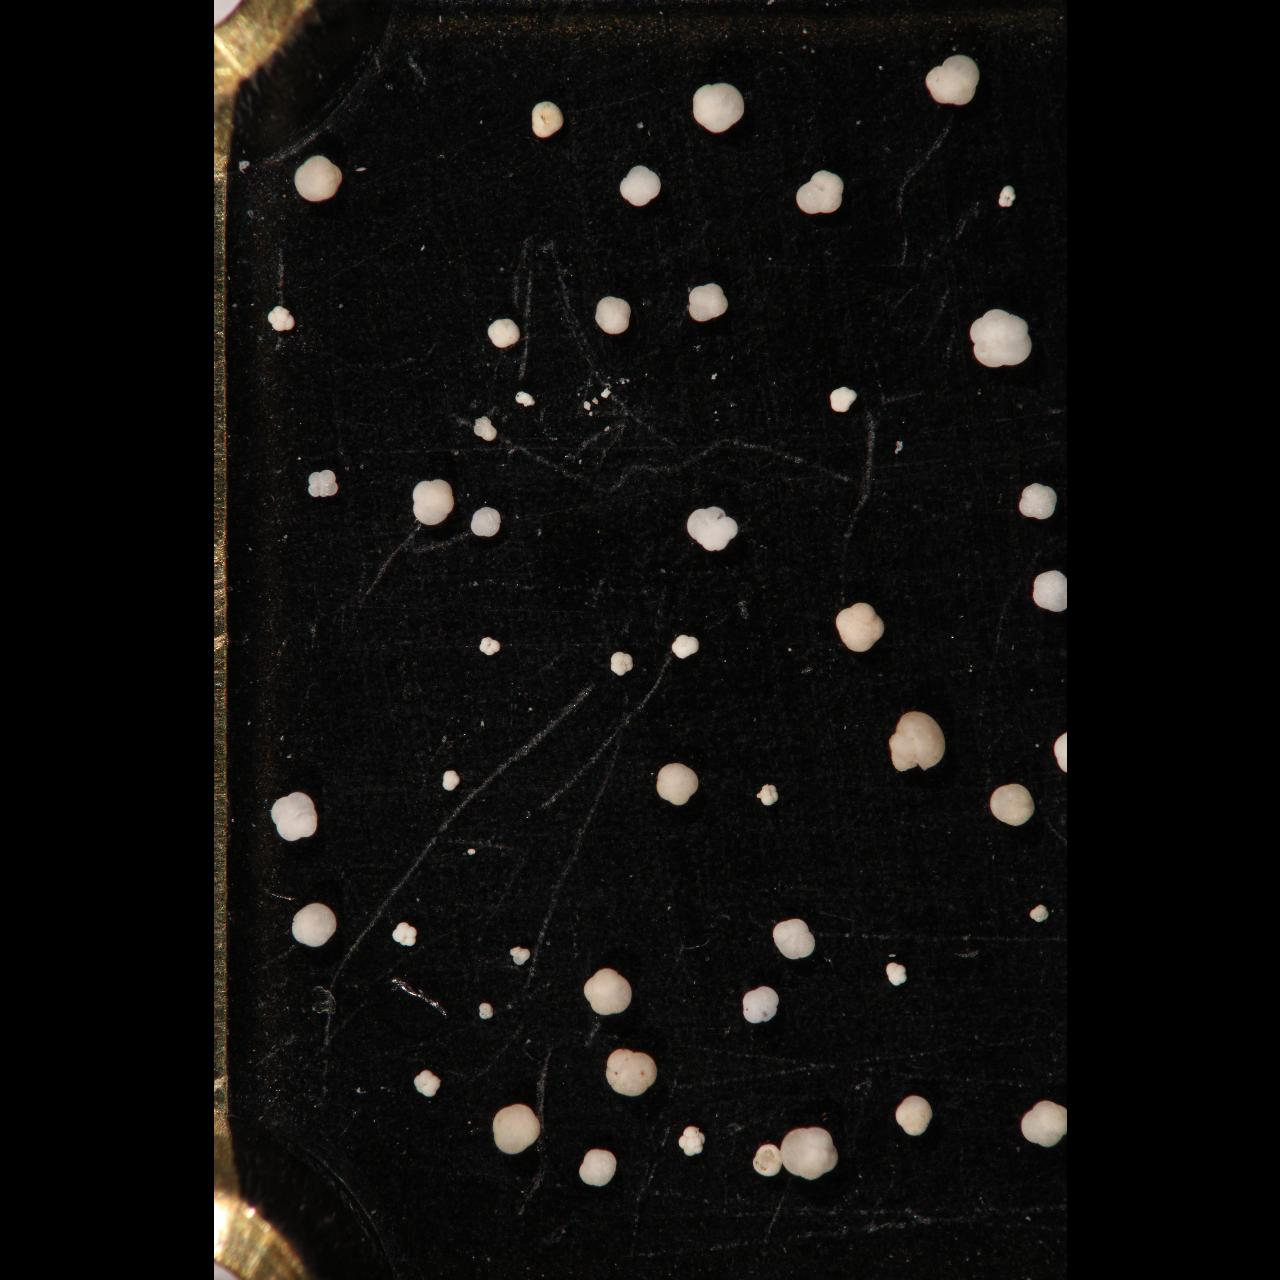planktic: (968, 307, 1032, 368), (890, 709, 946, 772), (781, 1123, 839, 1180), (692, 80, 744, 135), (922, 54, 979, 105), (490, 1102, 542, 1157), (605, 1046, 658, 1098), (581, 966, 633, 1020), (683, 504, 738, 553), (292, 155, 343, 205), (268, 789, 316, 843), (836, 602, 885, 654), (290, 900, 338, 949), (795, 169, 844, 215), (1020, 1099, 1065, 1148), (411, 477, 454, 527), (771, 917, 817, 961), (988, 783, 1036, 825), (656, 761, 700, 806), (618, 164, 660, 210), (894, 1092, 933, 1137), (688, 282, 729, 324), (741, 982, 779, 1026), (579, 1146, 617, 1189), (595, 295, 633, 336), (1017, 481, 1056, 519), (1032, 570, 1065, 613), (531, 98, 564, 139), (751, 1141, 783, 1179), (485, 318, 520, 350), (469, 505, 502, 538), (676, 1122, 706, 1158), (307, 467, 339, 497), (411, 1068, 442, 1098), (829, 384, 857, 415), (672, 632, 700, 660), (268, 305, 295, 333), (471, 415, 497, 444), (390, 920, 415, 948), (608, 651, 634, 676), (755, 781, 779, 806), (1027, 903, 1051, 926), (884, 961, 906, 987), (509, 944, 531, 968), (477, 635, 501, 658), (442, 767, 461, 794), (998, 184, 1016, 210), (513, 392, 535, 409), (477, 1000, 493, 1022)
